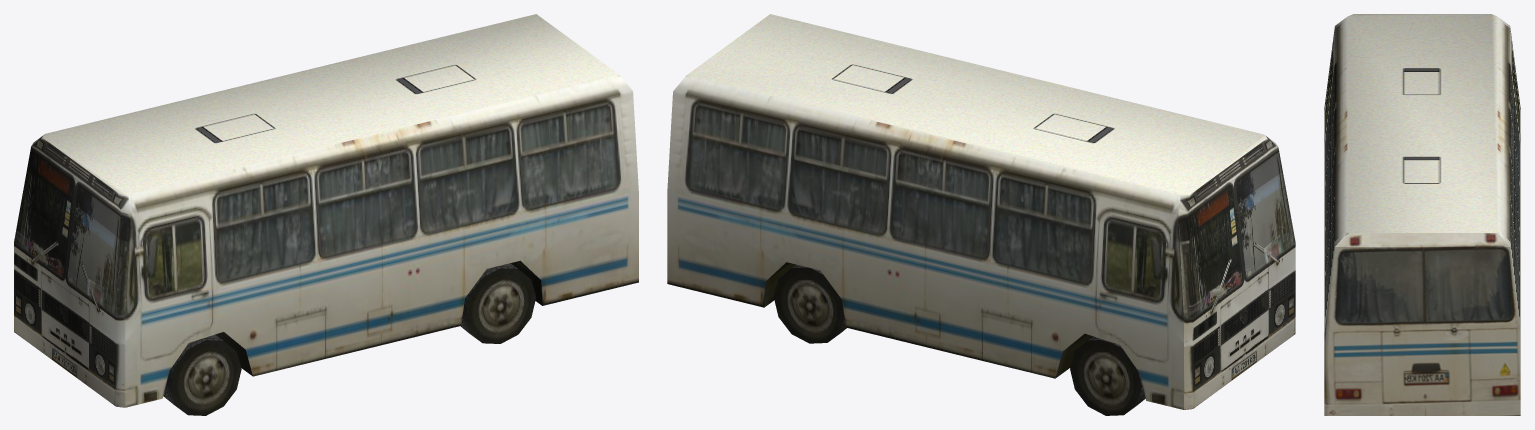
The model's file is pazik.FBX.
3 renders of one model, left to right at view 1: azimuth 30°, elevation 25°; view 2: azimuth 150°, elevation 25°; view 3: azimuth 270°, elevation 25°, orthographic. The views are drawn at different scales.
Visible parts, largest first — view 1: pazik; view 2: pazik; view 3: pazik.
Part boxes in pixels (left/top/right/bottom): pazik: left=14, top=14, right=638, bottom=415; pazik: left=667, top=14, right=1295, bottom=415; pazik: left=1324, top=14, right=1520, bottom=415.
Bounding box in the file's own units: 764 × 322 × 277.
